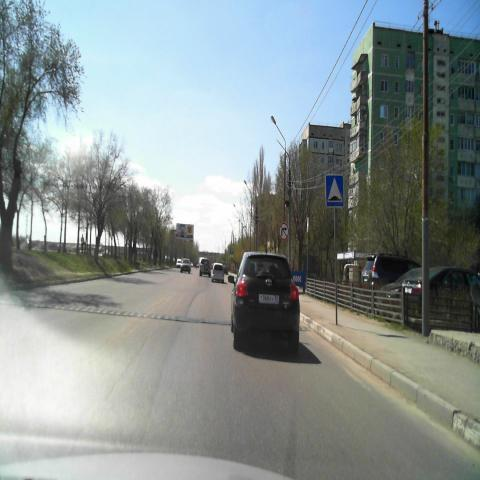3_18: (278, 222, 290, 241)
